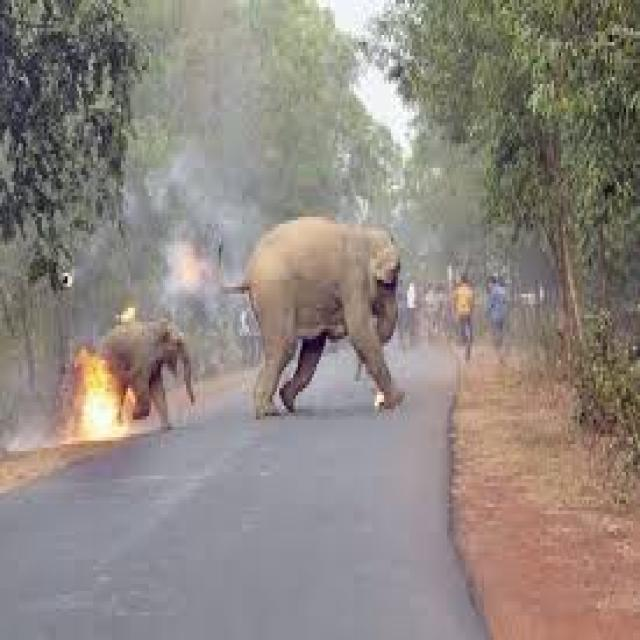Elephant: (228, 198, 418, 426), (89, 314, 216, 451)
